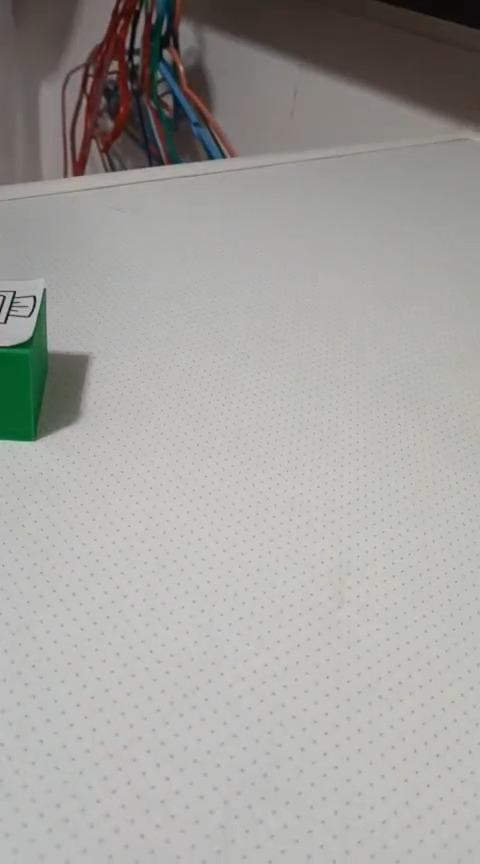Gauze: (0, 277, 49, 441)
